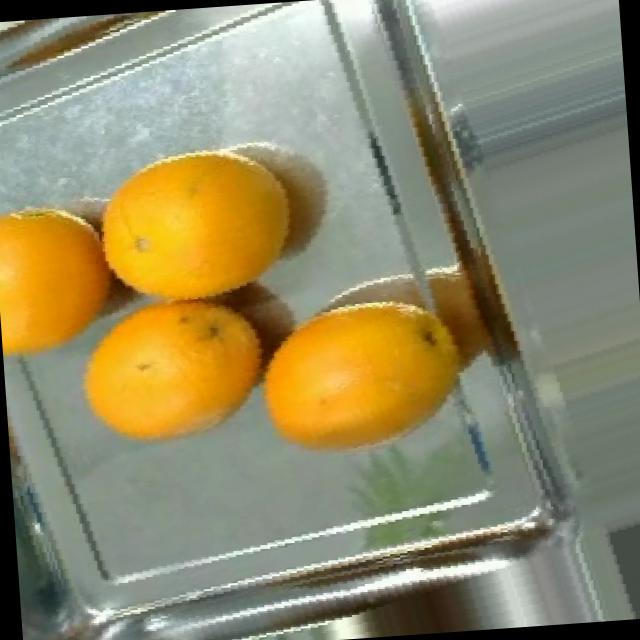Fruit: (54, 280, 280, 470), (0, 178, 154, 376)
